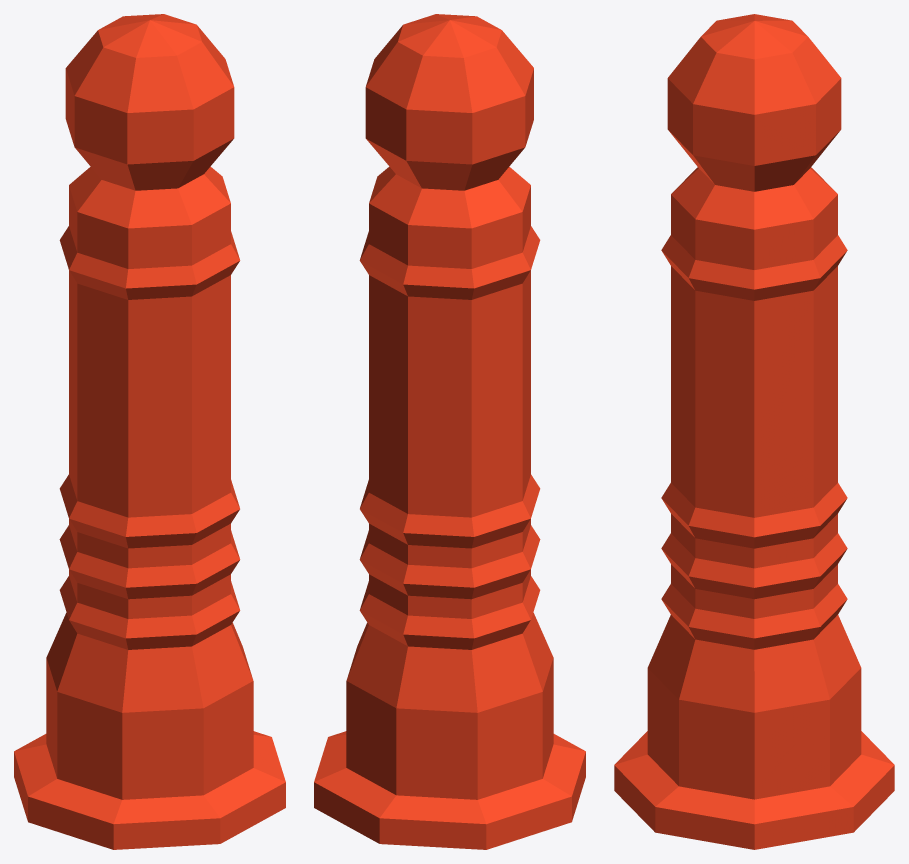
The model's file is SM_Bollard_D_City.fbx.
The picture shows the model from 3 angles, left to right: view 1: azimuth 30°, elevation 25°; view 2: azimuth 150°, elevation 25°; view 3: azimuth 270°, elevation 25°; orthographic projection.
Parts seen in each view (by area): view 1: SM_Bollard_D_City; view 2: SM_Bollard_D_City; view 3: SM_Bollard_D_City.
Boxes of the visible parts, bbox=[...] form: SM_Bollard_D_City: bbox=[14, 14, 285, 849]; SM_Bollard_D_City: bbox=[314, 14, 585, 849]; SM_Bollard_D_City: bbox=[614, 14, 894, 849].
Bounding box in the file's own units: 0.3077 × 0.9313 × 0.3077.
